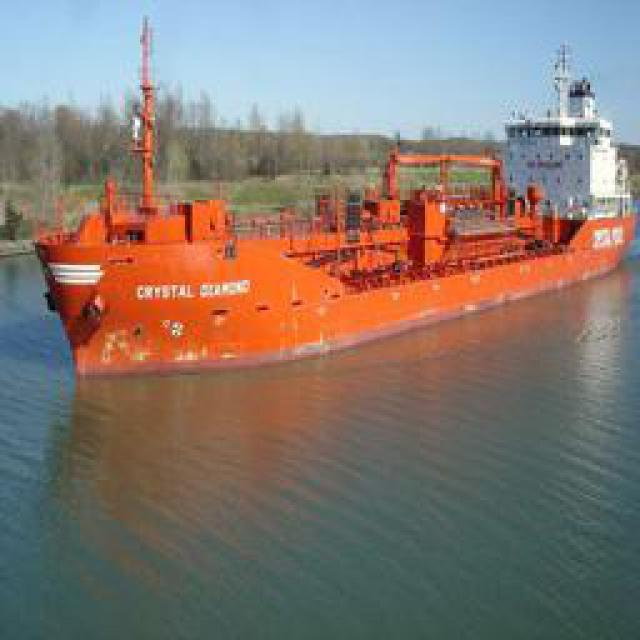Ship: (42, 104, 625, 437)
